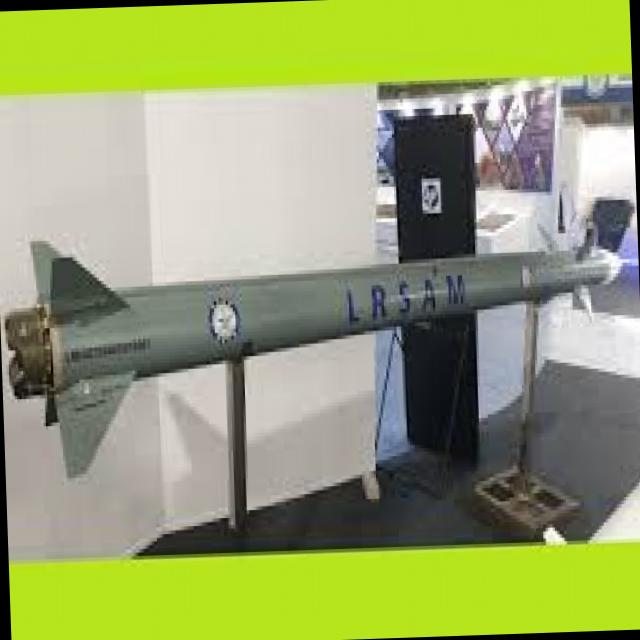rocket: (3, 215, 626, 481)
